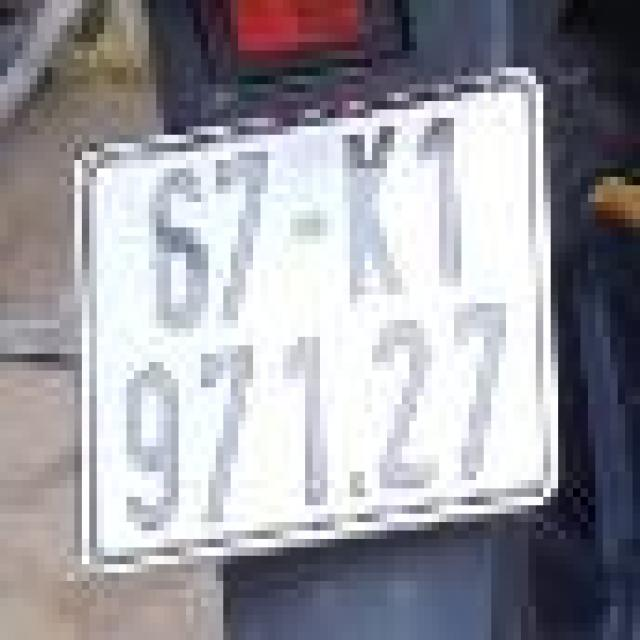1: (275, 329, 350, 522), (413, 105, 480, 291)
2: (365, 311, 439, 497)
6: (138, 156, 205, 324)
7: (193, 328, 260, 539), (443, 299, 510, 484), (212, 148, 272, 324)
9: (119, 350, 179, 543)
K: (328, 122, 410, 307)
